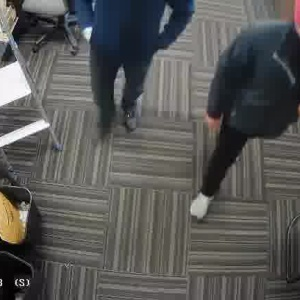person: (195, 23, 300, 222), (78, 0, 180, 141)
